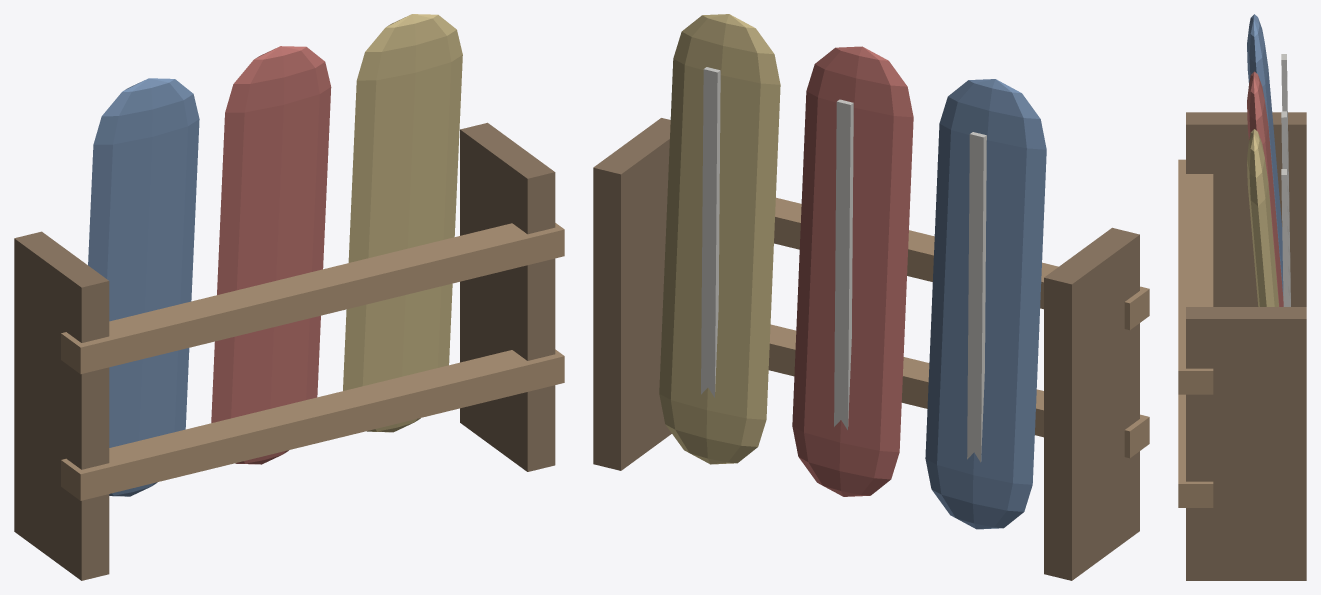
3 views of the same model, side by side, from view 1: azimuth 30°, elevation 25°; view 2: azimuth 150°, elevation 25°; view 3: azimuth 270°, elevation 25° (orthographic). The views are drawn at different scales.
Parts seen in each view (by area): view 1: structure.surf_rack; view 2: structure.surf_rack; view 3: structure.surf_rack.
Boxes of the visible parts, left/top/right/bottom form: structure.surf_rack: left=14, top=14, right=564, bottom=580; structure.surf_rack: left=593, top=14, right=1149, bottom=580; structure.surf_rack: left=1178, top=14, right=1306, bottom=580.
Bounding box in the file's own units: 2.28 × 2.02 × 0.585.
